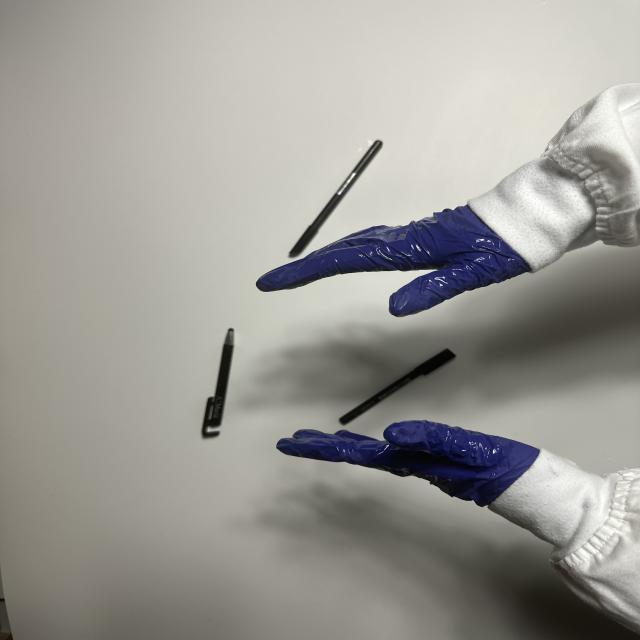gloves_contaminated: (256, 206, 530, 316), (277, 421, 539, 506)
